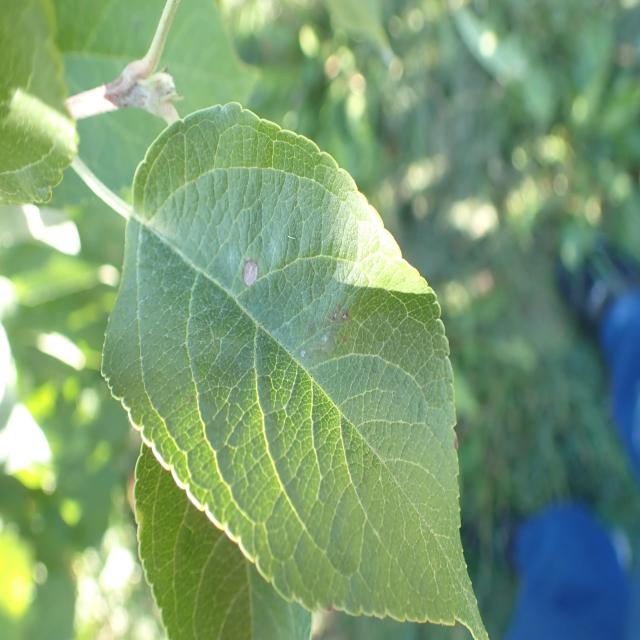frog-eye-leaf-spot: (99, 99, 491, 636)
